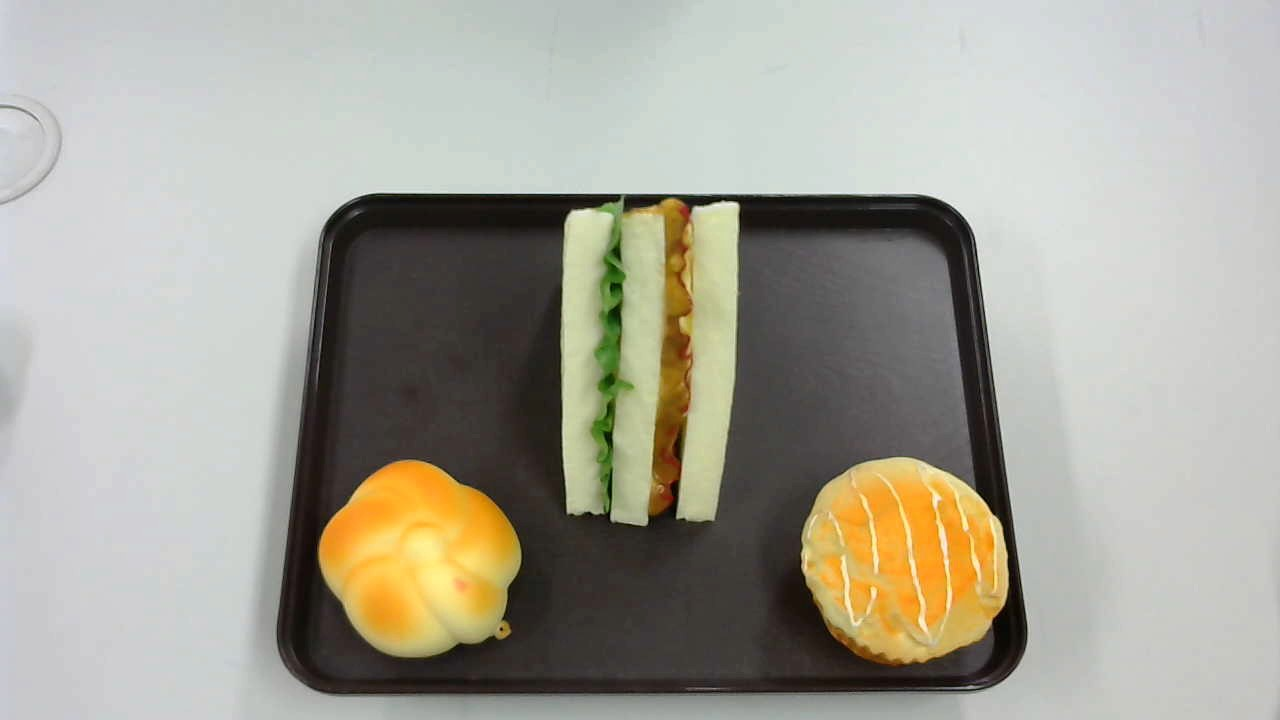cupcake: (801, 454, 1008, 667)
sandwich: (561, 189, 740, 527)
twist bread: (317, 458, 521, 657)
